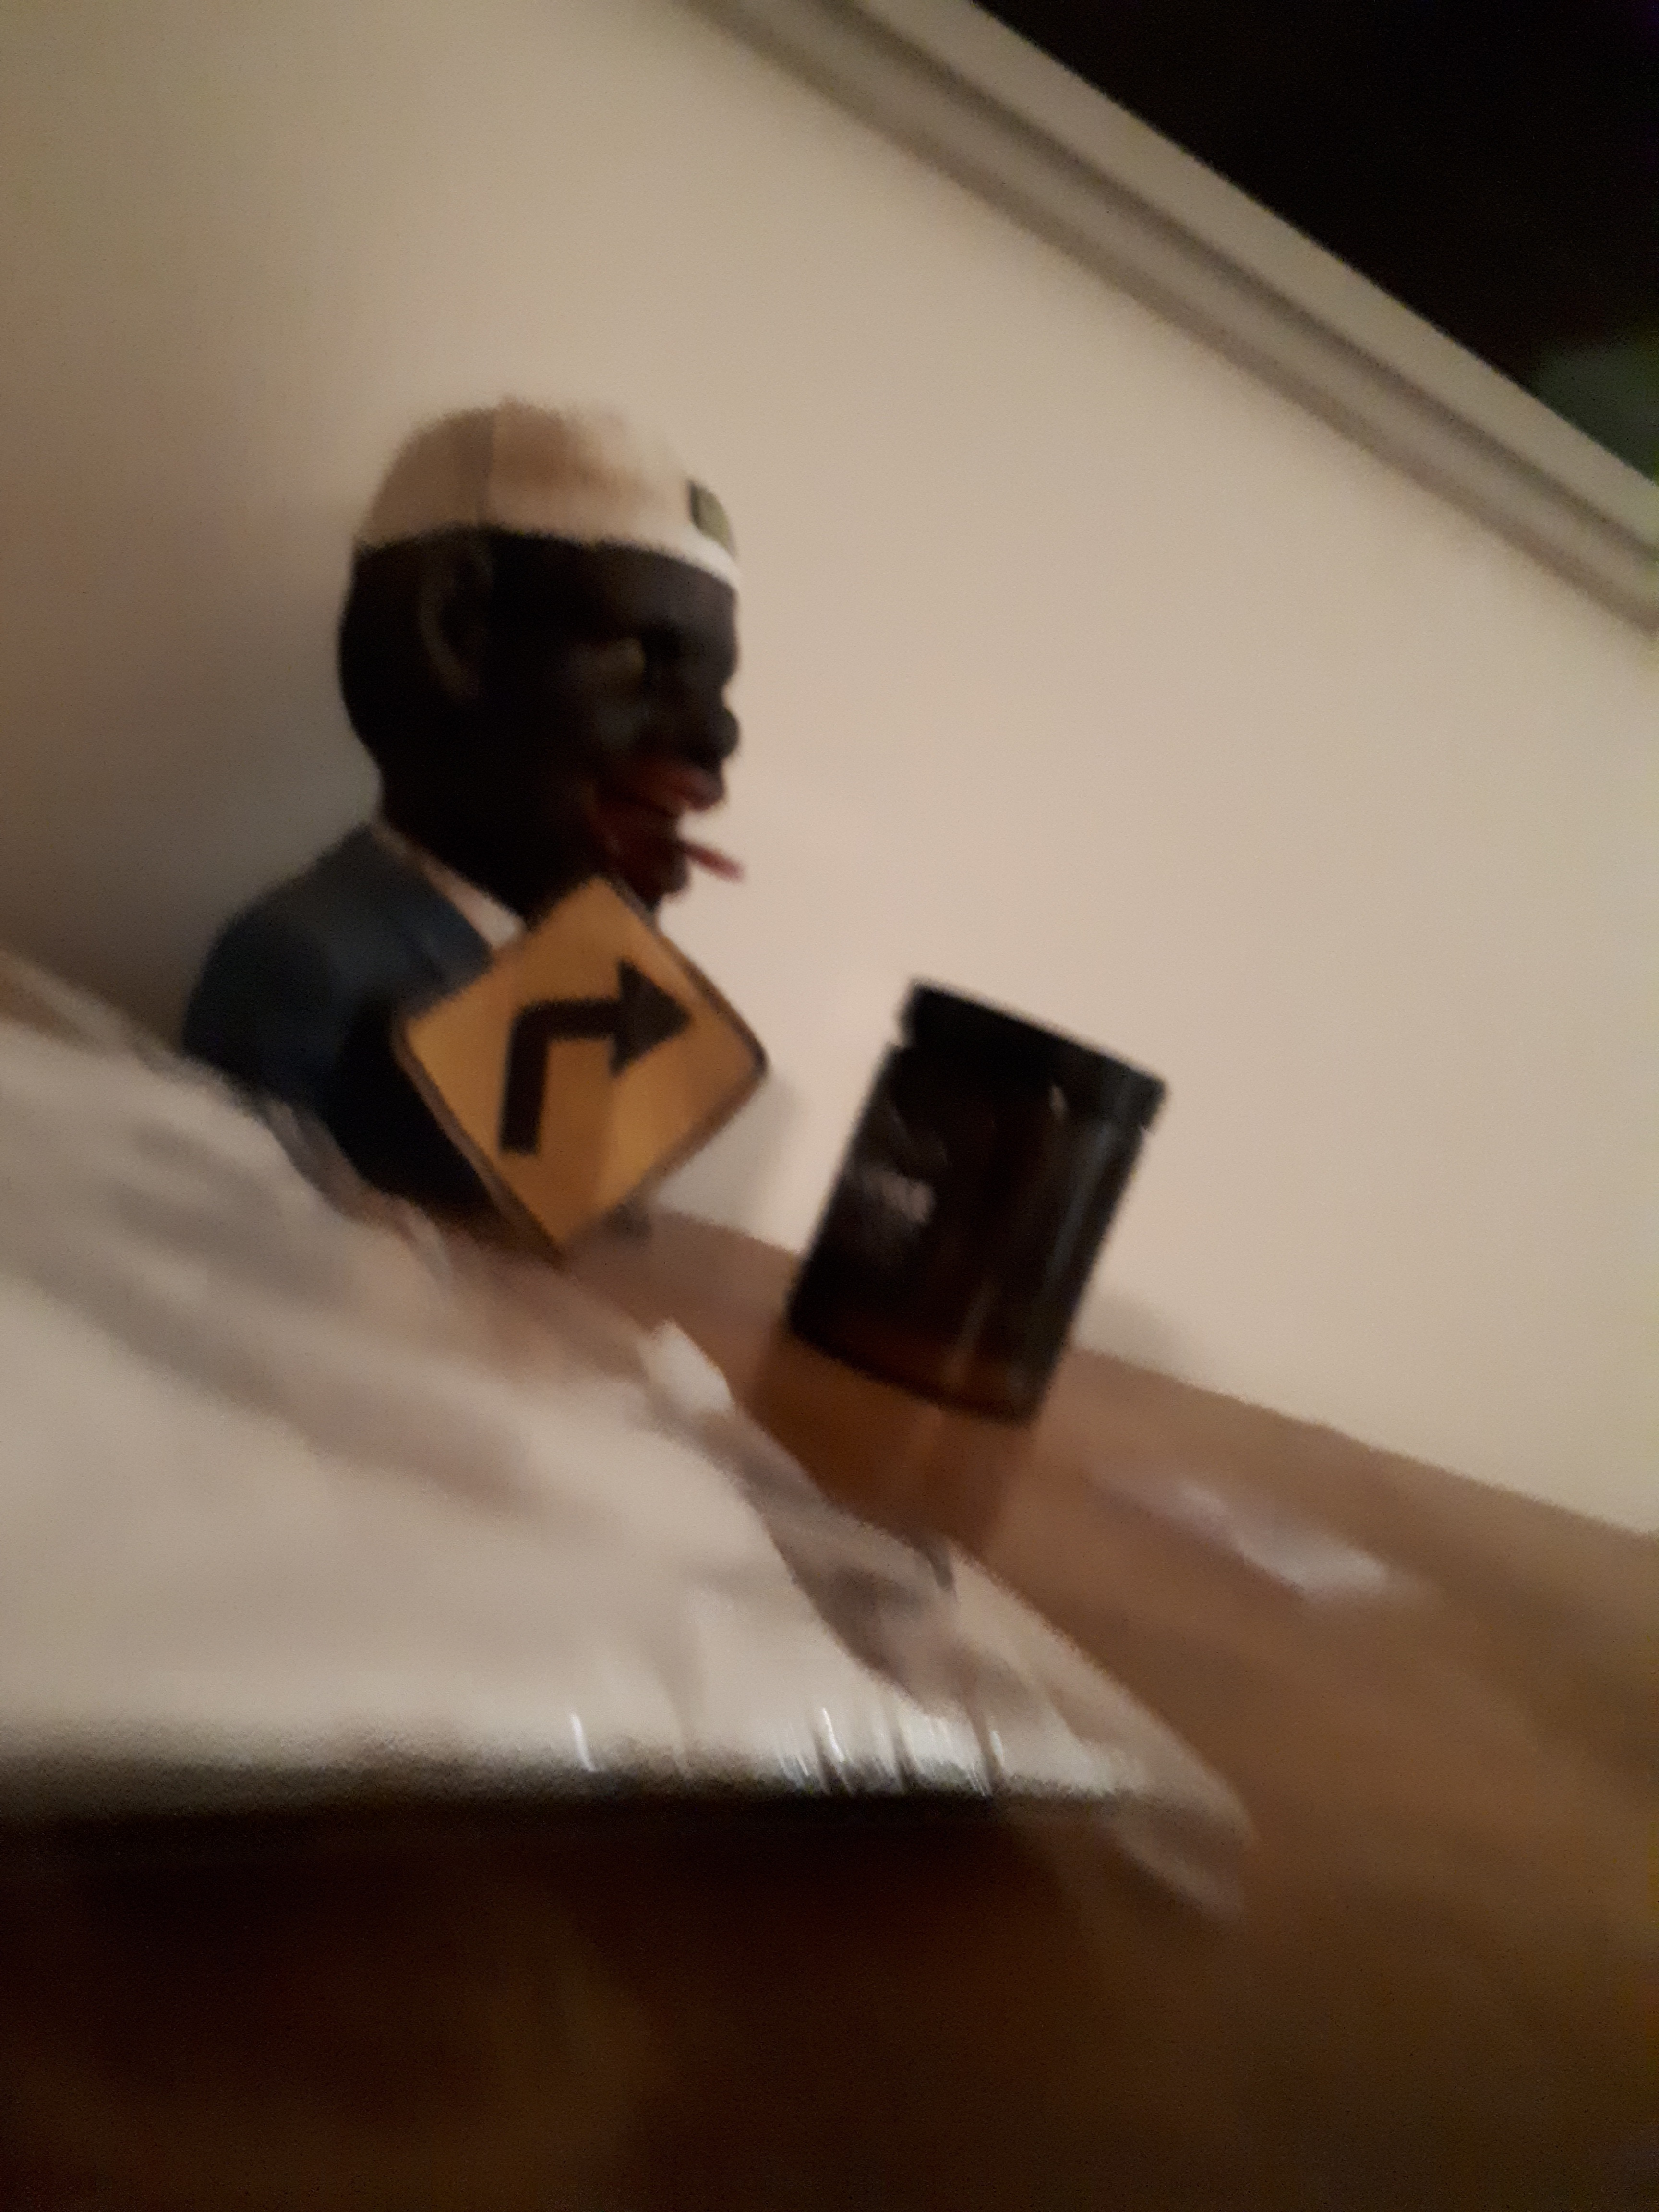right: (383, 873, 788, 1245), (490, 970, 718, 1200)
